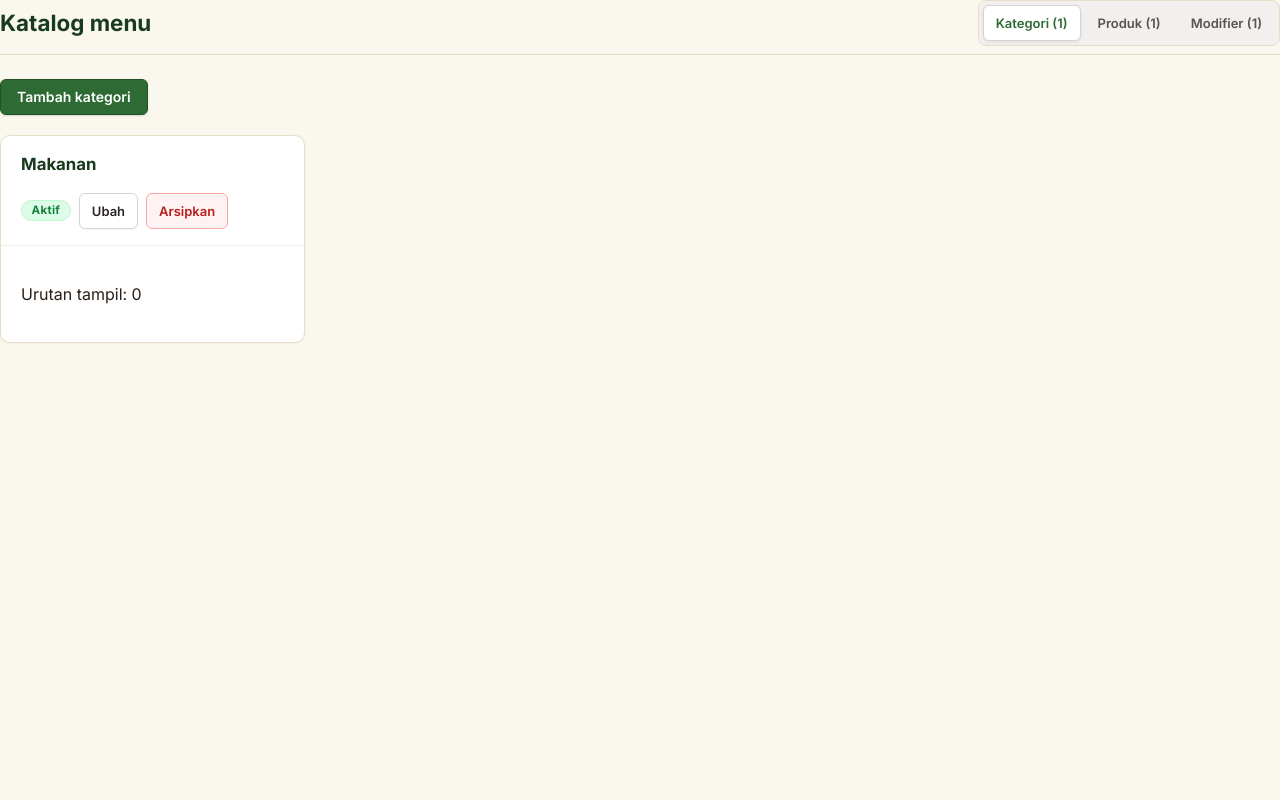
Scenario: CatalogPage › surfaces a backend denial when RLS refuses the write
Click the button "Tambah kategori". click: click(74, 97)
box: left=0, top=79, right=148, bottom=114
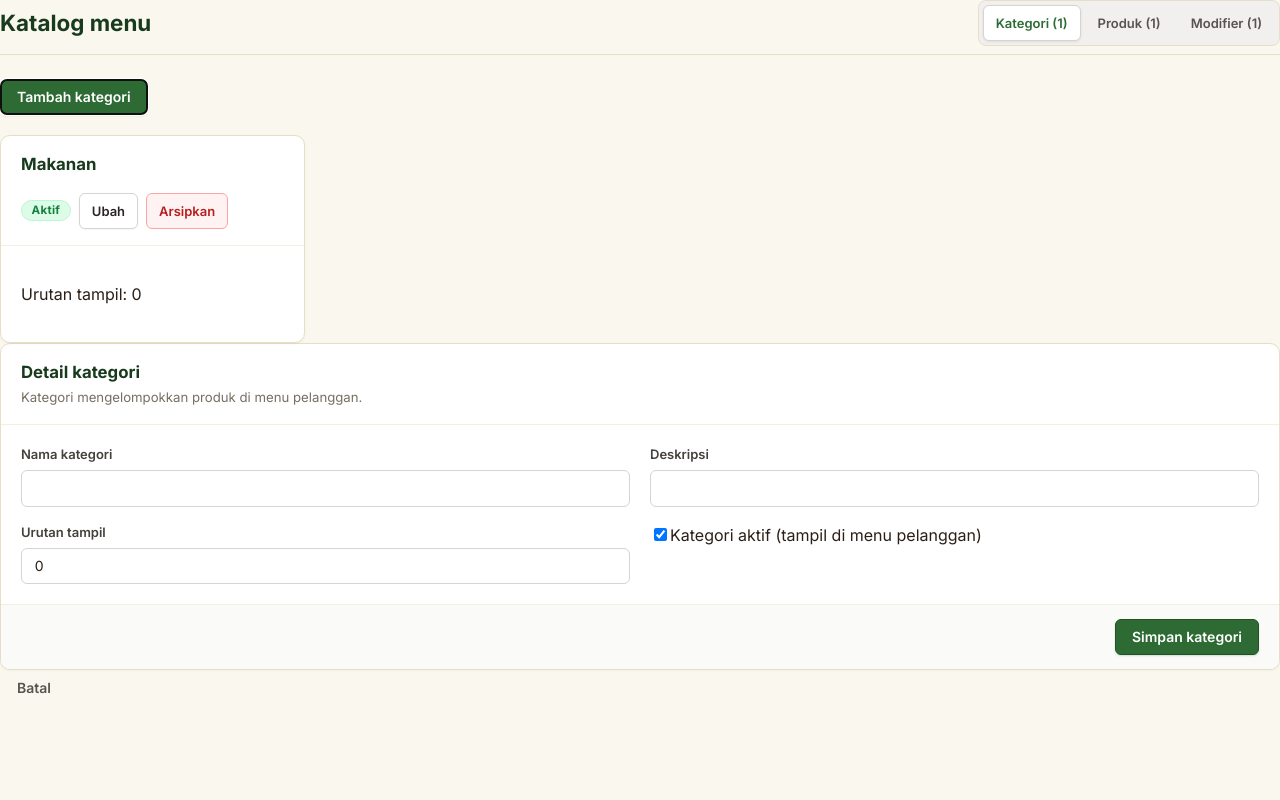
Click the button "Simpan kategori". click: click(1187, 637)
box: left=1115, top=619, right=1259, bottom=655
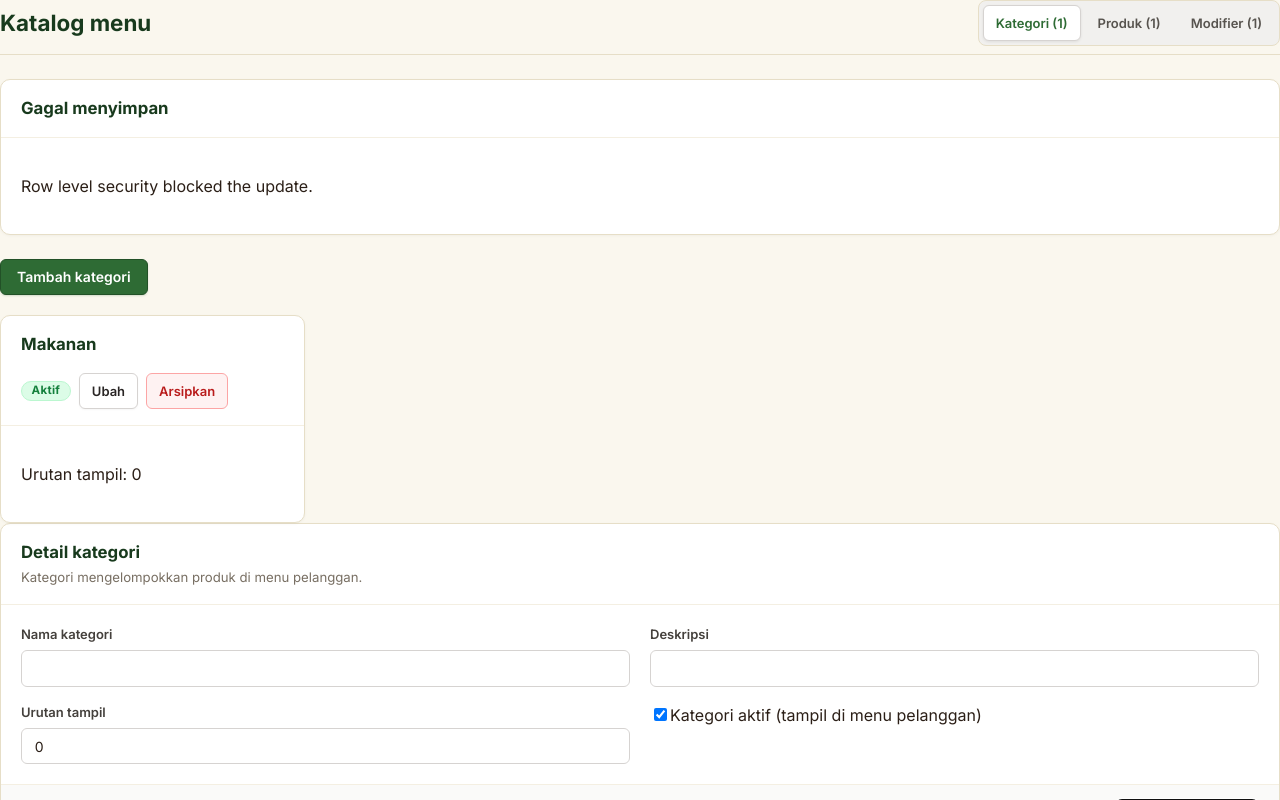
Expected: the text "Row level security blocked the update." is shown, left=21, top=176, right=313, bottom=196
